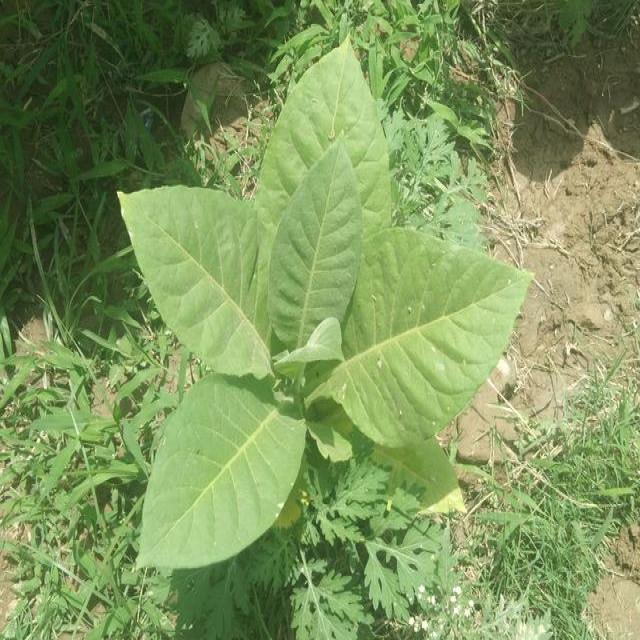crop: (103, 45, 526, 580)
